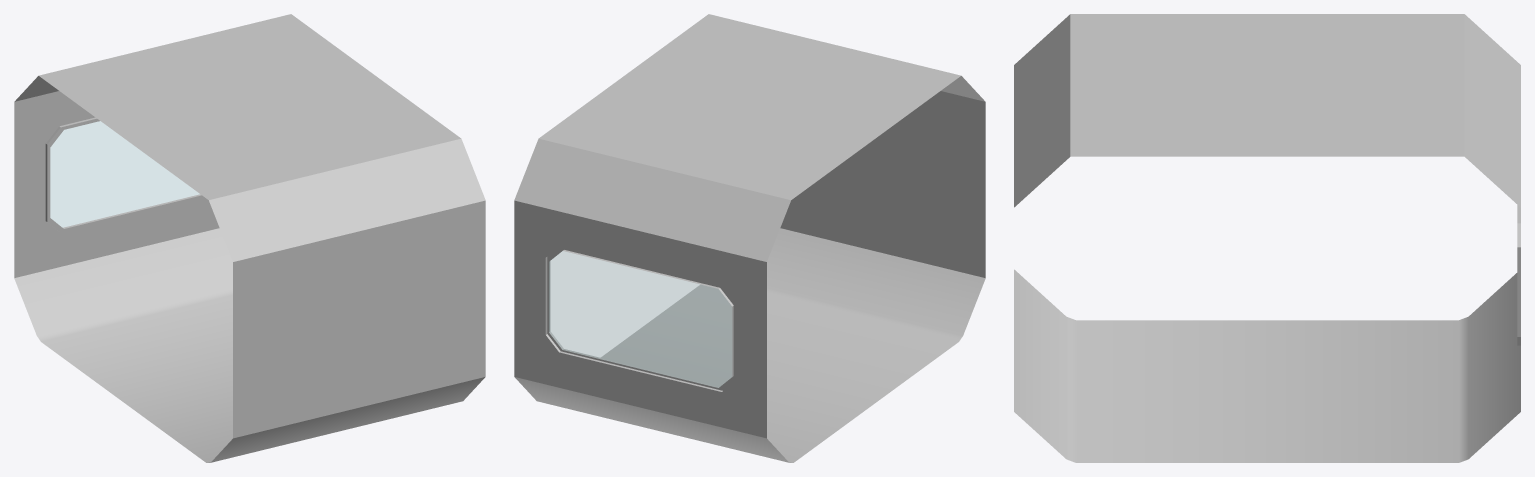
The model's file is Window.gltf.
3 renders of one model, left to right at view 1: azimuth 30°, elevation 25°; view 2: azimuth 150°, elevation 25°; view 3: azimuth 270°, elevation 25°, orthographic. The views are drawn at different scales.
Visible parts, largest first — view 1: Window; view 2: Window; view 3: Window.
Part boxes in pixels (x1=…): Window: x1=14, y1=14, x2=485, y2=462; Window: x1=514, y1=14, x2=985, y2=462; Window: x1=1014, y1=14, x2=1520, y2=462.
Bounding box in the file's own units: 2 × 2 × 3.
